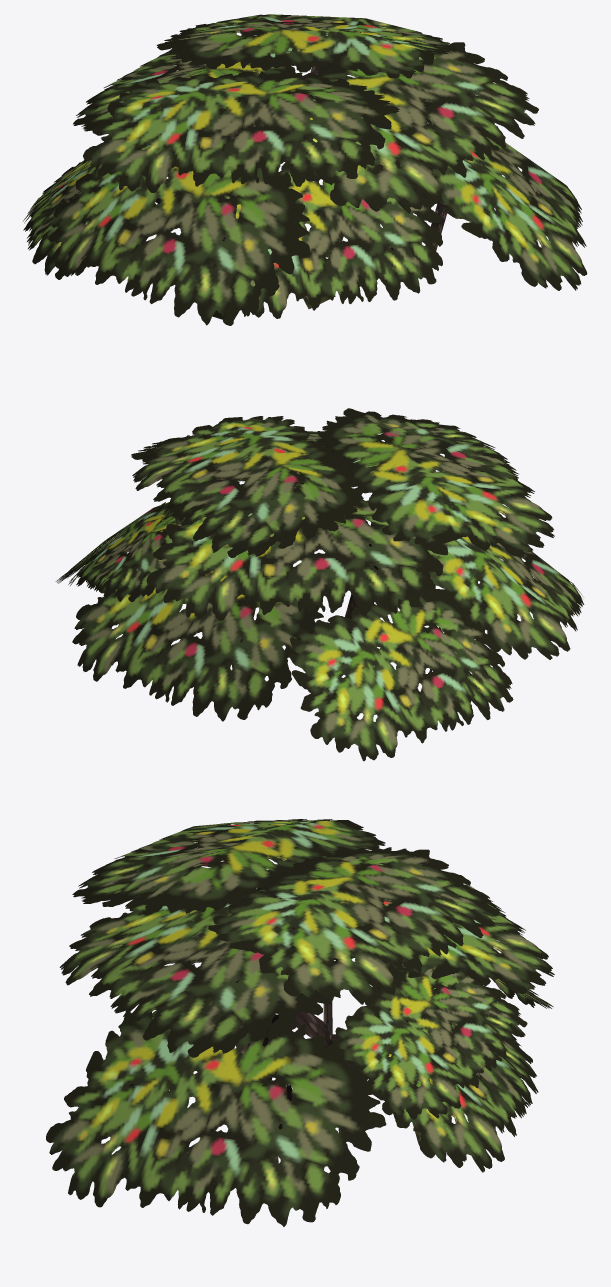
The model's file is foriage06_ds.fbx.
3 renders of one model, top to bottom at view 1: azimuth 30°, elevation 25°; view 2: azimuth 150°, elevation 25°; view 3: azimuth 270°, elevation 25°, orthographic. The views are drawn at different scales.
Parts seen in each view (by area): view 1: foriage06_ds; view 2: foriage06_ds; view 3: foriage06_ds.
Boxes of the visible parts, x1,y1,x2,y2 form: foriage06_ds: (23, 14, 587, 325); foriage06_ds: (55, 408, 584, 761); foriage06_ds: (46, 819, 554, 1226).
Bounding box in the file's own units: 2.59 × 1.1 × 2.17.
